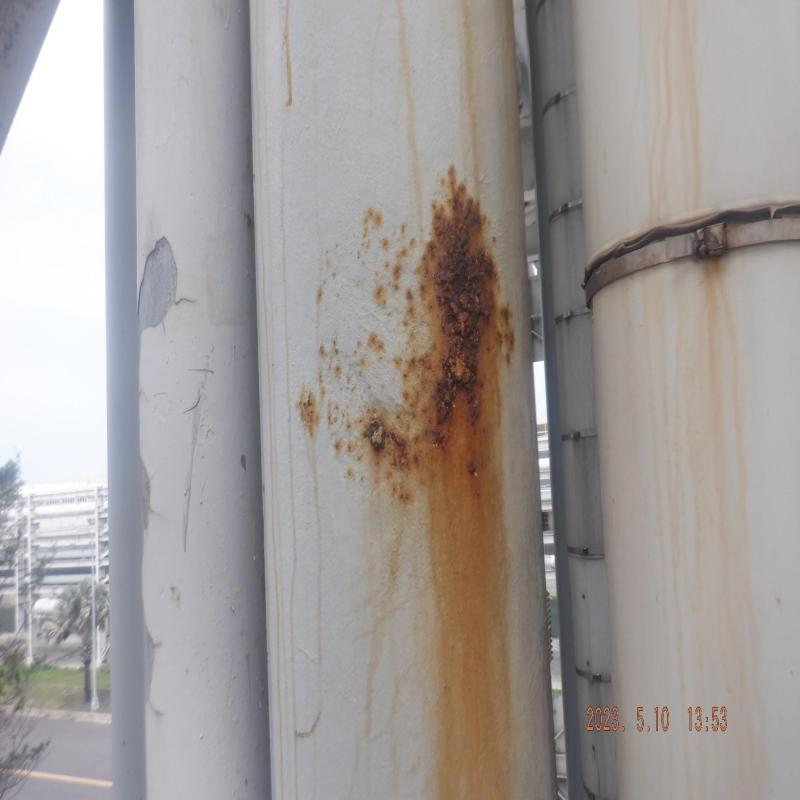corrosion: (432, 191, 500, 459), (361, 420, 395, 454)
